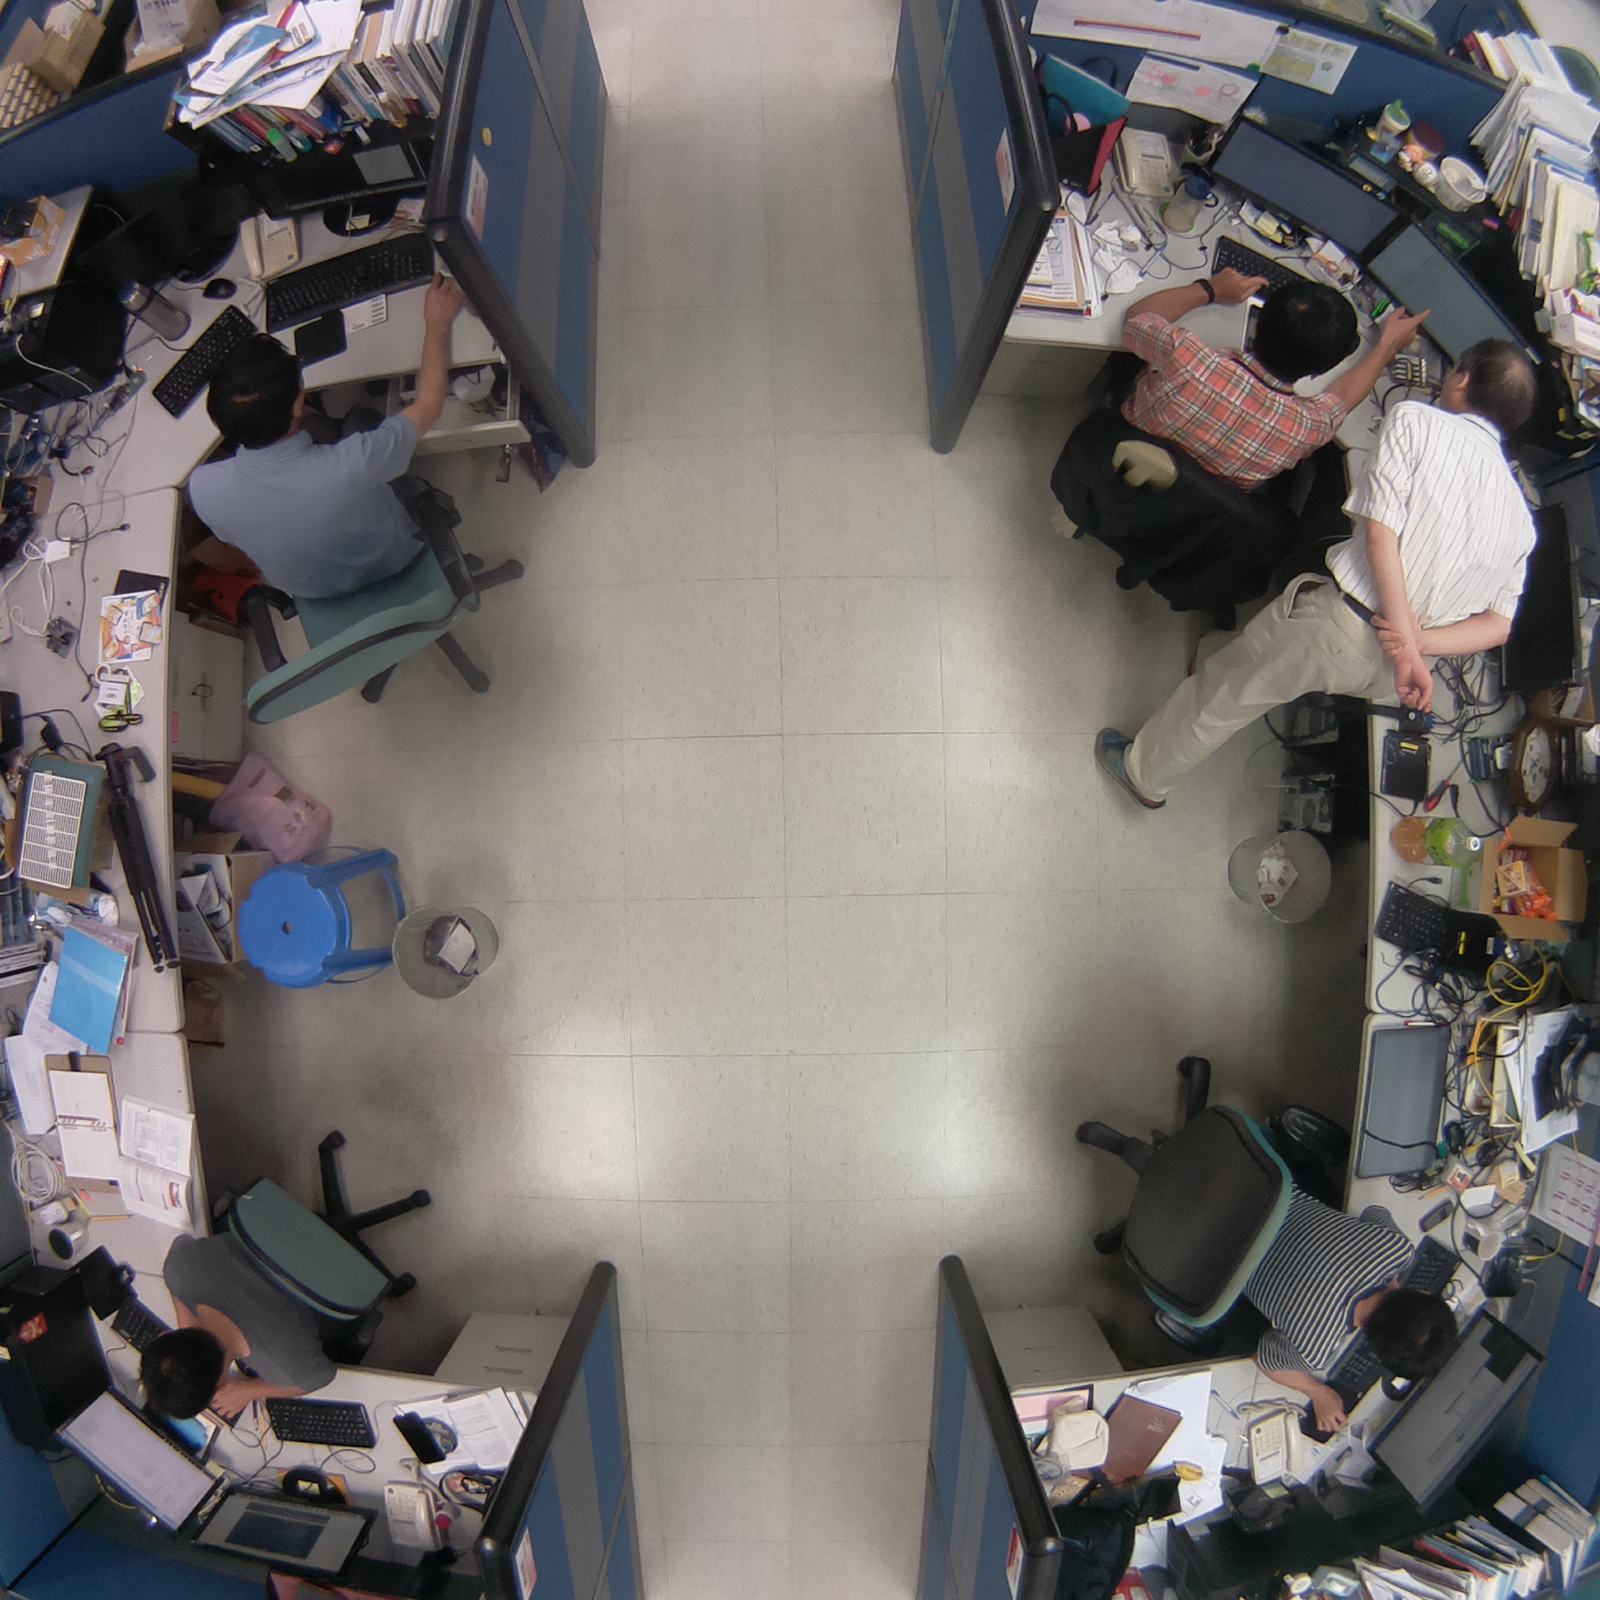head: (1244, 265, 1366, 387), (1353, 1278, 1470, 1394), (203, 327, 310, 445), (1437, 329, 1554, 431), (130, 1316, 237, 1423)
sitting: (1055, 1032, 1468, 1443), (175, 320, 545, 734), (1035, 244, 1368, 624), (127, 1122, 458, 1427)
standing: (1082, 329, 1559, 814)
